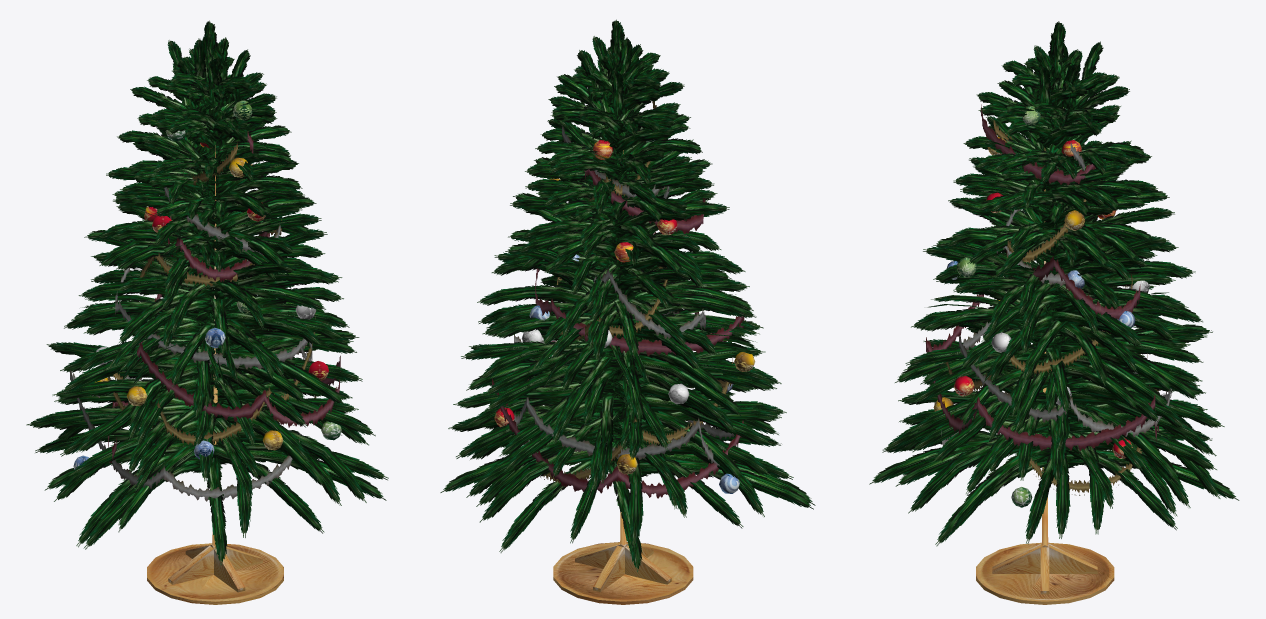
The model's file is christmastree.dae.
The picture shows the model from 3 angles, left to right: view 1: azimuth 30°, elevation 25°; view 2: azimuth 150°, elevation 25°; view 3: azimuth 270°, elevation 25°; orthographic projection.
Visible parts, largest first — view 1: objdefault; view 2: objdefault; view 3: objdefault.
Boxes of the visible parts, left/top/right/bottom form: objdefault: left=26, top=20, right=388, bottom=604; objdefault: left=440, top=19, right=815, bottom=604; objdefault: left=869, top=21, right=1239, bottom=604.
Size of the model in its own units: 2.2 by 2.25 by 3.51.
1 material, 1 textured.
